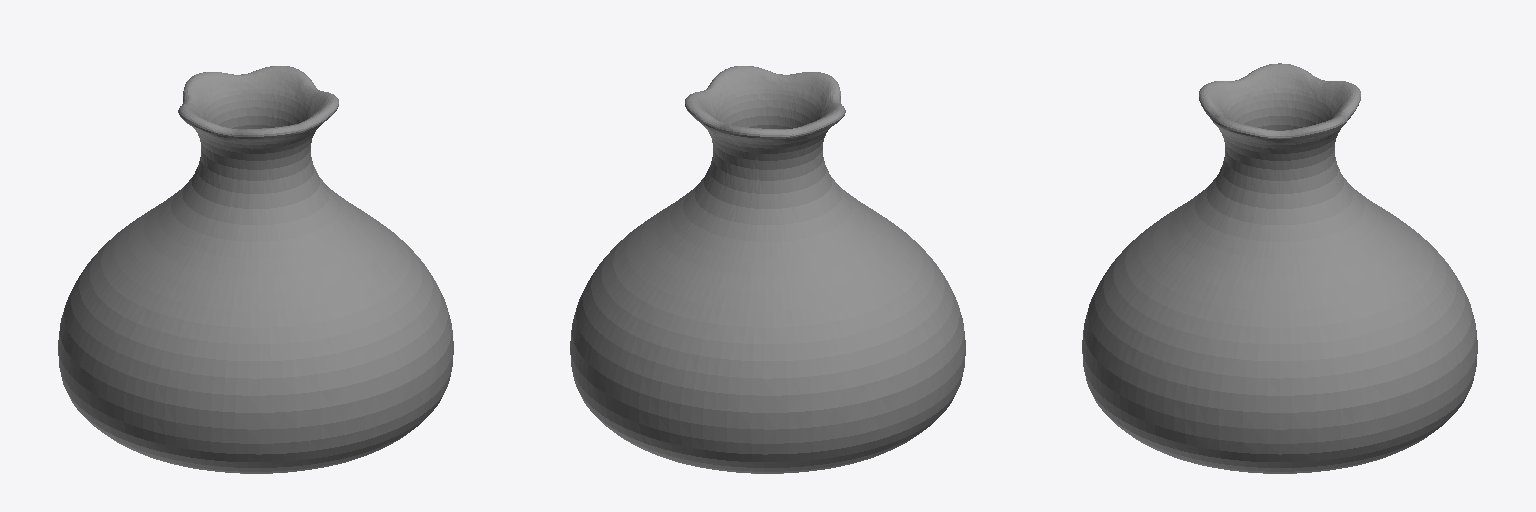
The picture shows the model from 3 angles: view 1: azimuth 30°, elevation 25°; view 2: azimuth 150°, elevation 25°; view 3: azimuth 270°, elevation 25°; orthographic projection.
Visible parts, largest first — view 1: SZB_zl_03; view 2: SZB_zl_03; view 3: SZB_zl_03.
Part boxes in pixels (left/top/right/bottom): SZB_zl_03: left=58, top=66, right=453, bottom=473; SZB_zl_03: left=570, top=66, right=965, bottom=473; SZB_zl_03: left=1082, top=63, right=1477, bottom=473.
Bounding box in the file's own units: 0.18 × 0.1596 × 0.18.